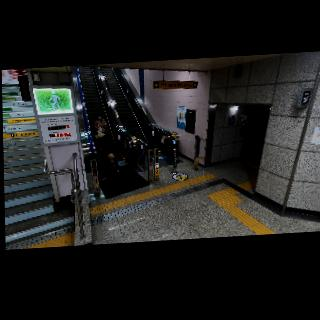anomaly: (96, 152, 122, 182)
normal: (94, 115, 108, 152)
